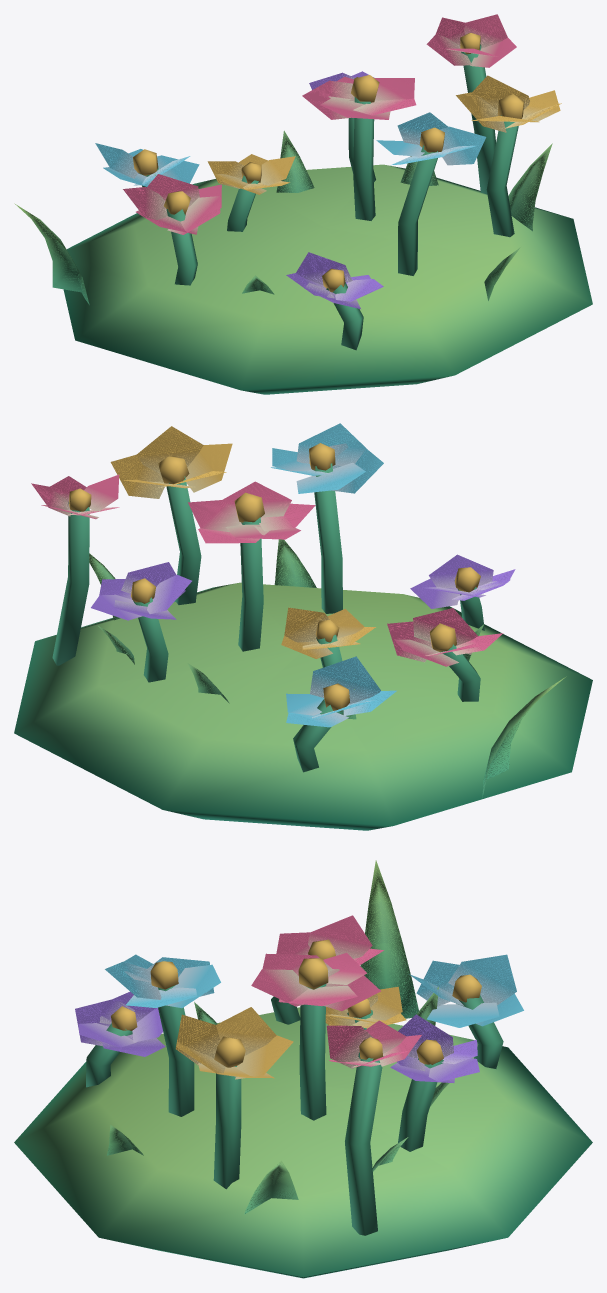
The model's file is verdant_flower_wildpatch.glb.
3 views of the same model, one above another, from view 1: azimuth 30°, elevation 25°; view 2: azimuth 150°, elevation 25°; view 3: azimuth 270°, elevation 25° (orthographic). The views are drawn at different scales.
Parts seen in each view (by area): view 1: verdant_flower_wildpatch; view 2: verdant_flower_wildpatch; view 3: verdant_flower_wildpatch.
Part boxes in pixels (x1,y1,x2,y2): verdant_flower_wildpatch: (14,14,592,394); verdant_flower_wildpatch: (14,423,592,830); verdant_flower_wildpatch: (14,860,592,1278).
Bounding box in the file's own units: 1.16 × 0.5101 × 1.
